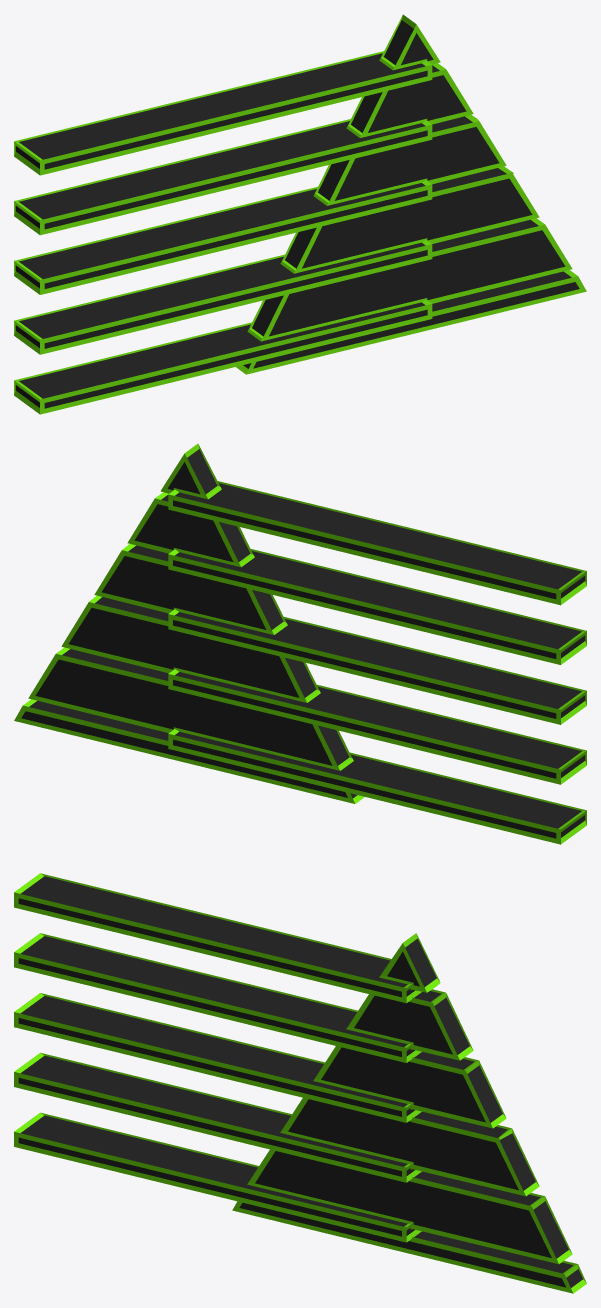
Rendered from pyramidblack.glb.
3 views of the same model, one above another, from view 1: azimuth 30°, elevation 25°; view 2: azimuth 150°, elevation 25°; view 3: azimuth 330°, elevation 25° (orthographic).
Parts seen in each view (by area): view 1: pyrwire; view 2: pyrwire; view 3: pyrwire.
Part boxes in pixels (x1,y1,x2,y2): pyrwire: [14, 14, 586, 414]; pyrwire: [14, 443, 586, 844]; pyrwire: [14, 873, 586, 1293].
Bounding box in the file's own units: 2.84 × 1.52 × 0.2327.
Materials: 2 (1 with a texture image).
